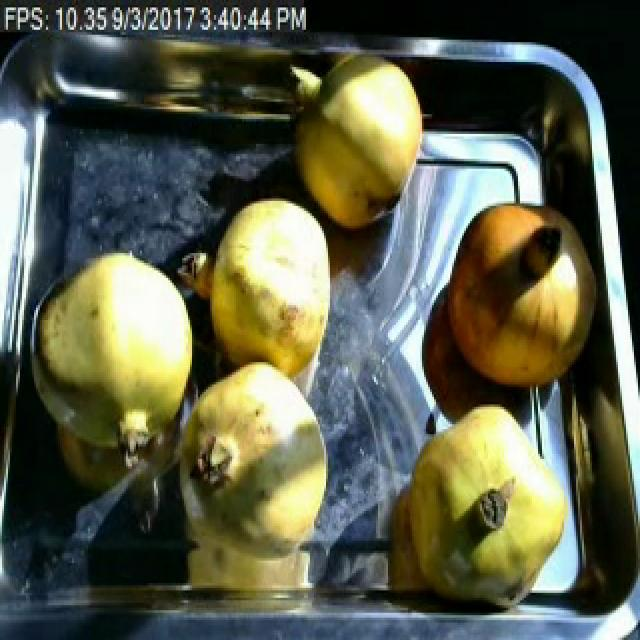fruit: (14, 233, 212, 474), (390, 389, 582, 608), (434, 191, 606, 399), (186, 345, 342, 573), (192, 188, 346, 384), (286, 50, 432, 238)
